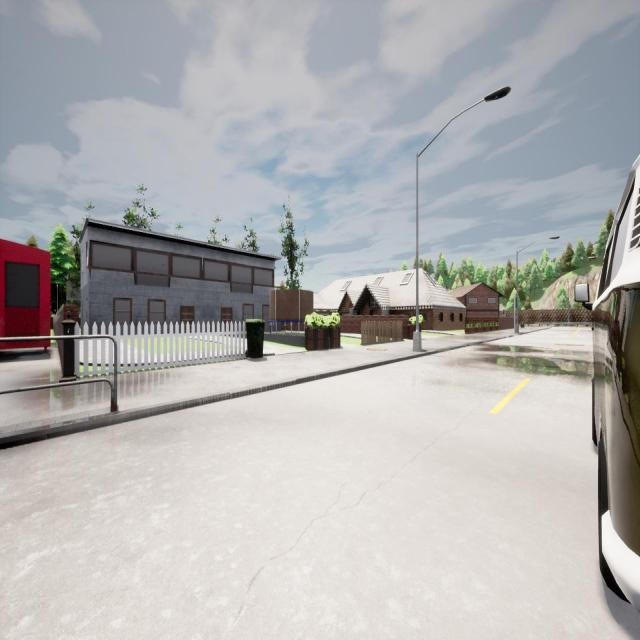Vehicle: (574, 155, 639, 611)
traffic_light: (513, 296, 517, 308)
